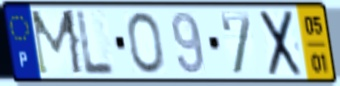7: (219, 10, 254, 77)
9: (169, 10, 207, 76)
L: (75, 9, 118, 77)
M: (27, 8, 86, 78)
O: (126, 10, 167, 76)
X: (258, 8, 304, 78)
